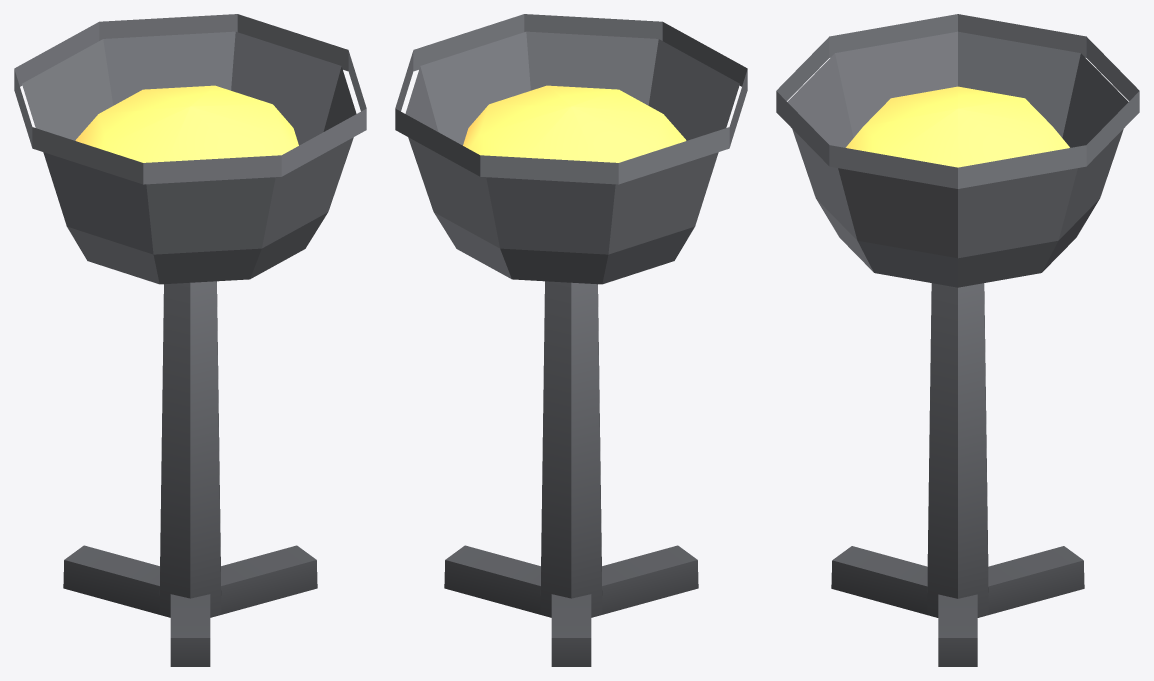
The model's file is rig_brazier.glb.
The picture shows the model from 3 angles, left to right: view 1: azimuth 30°, elevation 25°; view 2: azimuth 150°, elevation 25°; view 3: azimuth 270°, elevation 25°; orthographic projection.
Parts seen in each view (by area): view 1: rig_brazier; view 2: rig_brazier; view 3: rig_brazier.
Boxes of the visible parts, left/top/right/bottom form: rig_brazier: left=14, top=14, right=366, bottom=666; rig_brazier: left=395, top=14, right=747, bottom=666; rig_brazier: left=776, top=14, right=1139, bottom=666.
Bounding box in the file's own units: 0.92 × 1.46 × 0.92.
